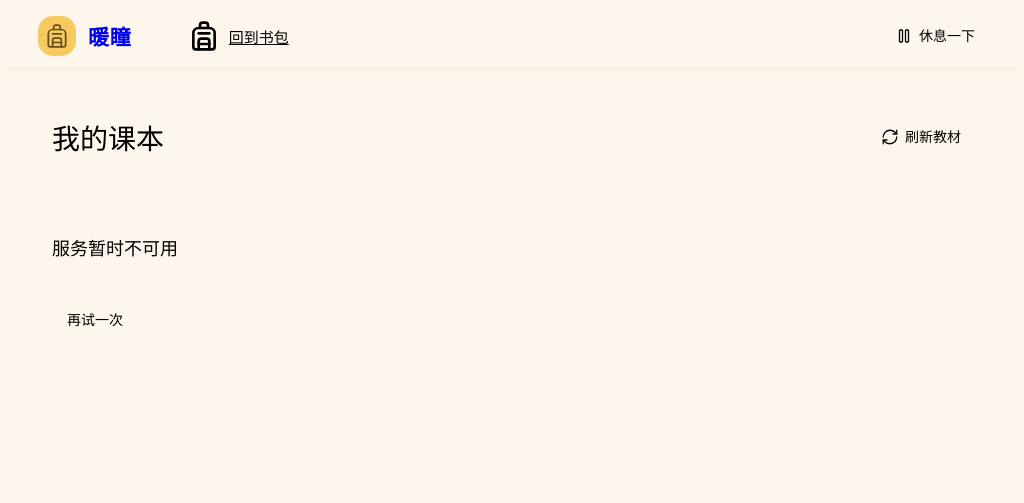
Test: school textbooks › handles unavailable grades and retries failure without invented courses
The width and height of the screenshot is (1024, 503).
Expected: the message shows "服务暂时不可用", top-left (52, 238), bottom-right (178, 258)
Step 1. Click the button "再试一次" → point(95, 320), box top-left (52, 300), bottom-right (138, 340)
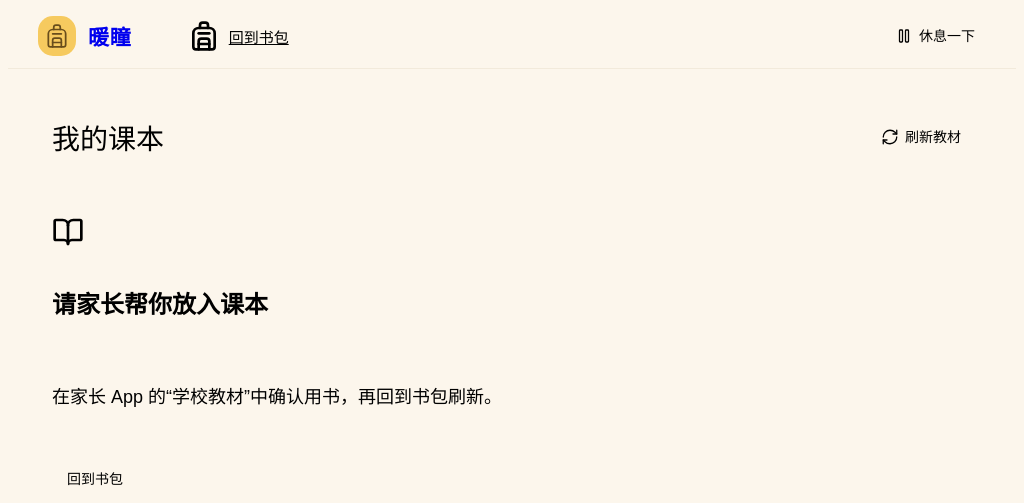
Result: the heading "请家长帮你放入课本" is shown at top-left (52, 285), bottom-right (268, 326)
